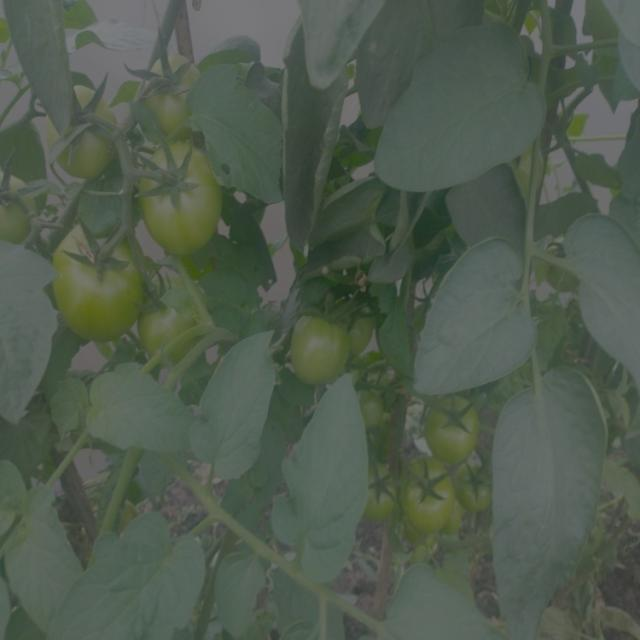tomato: (53, 221, 145, 338), (140, 145, 226, 257), (56, 111, 123, 182), (423, 394, 486, 468), (291, 310, 347, 392), (150, 303, 204, 368), (408, 475, 452, 538), (147, 80, 193, 140), (364, 463, 403, 527), (1, 194, 35, 253), (461, 472, 501, 522), (357, 386, 392, 440), (351, 314, 381, 360)
